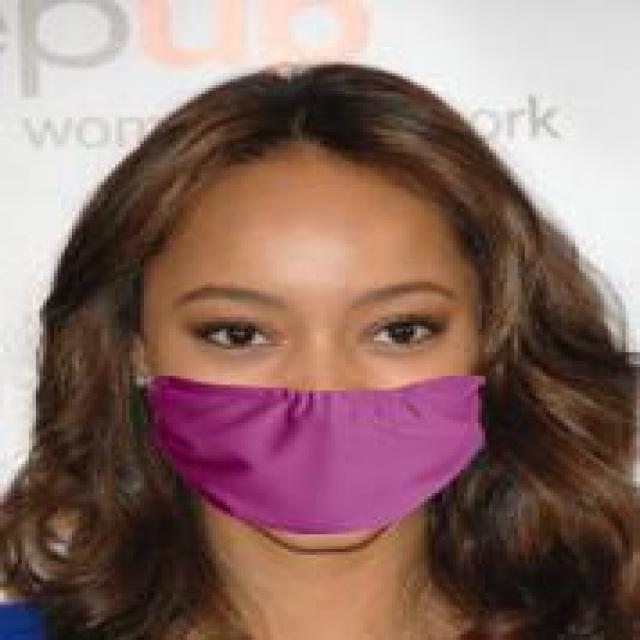mask: (147, 41, 536, 576)
